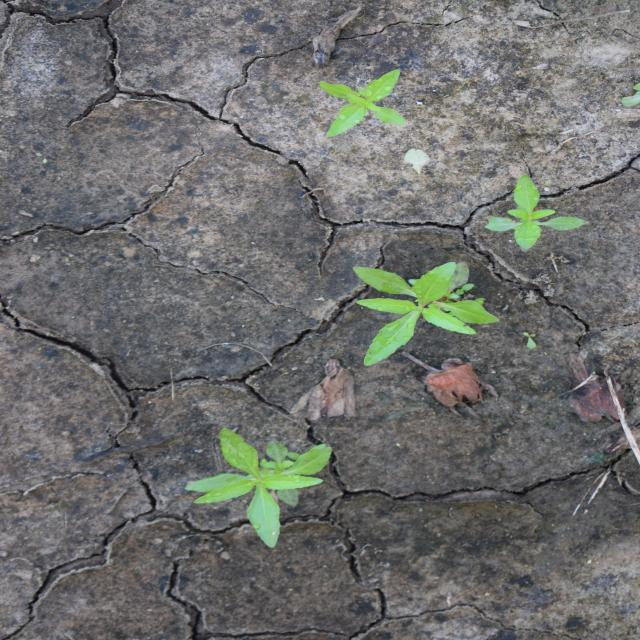Eclipta: (181, 426, 334, 550), (350, 260, 502, 366), (481, 174, 589, 251), (316, 67, 411, 140)
